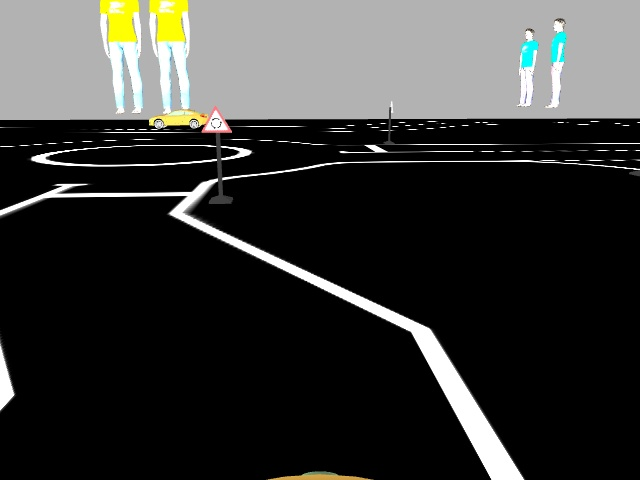Roundabout: (198, 104, 232, 132)
